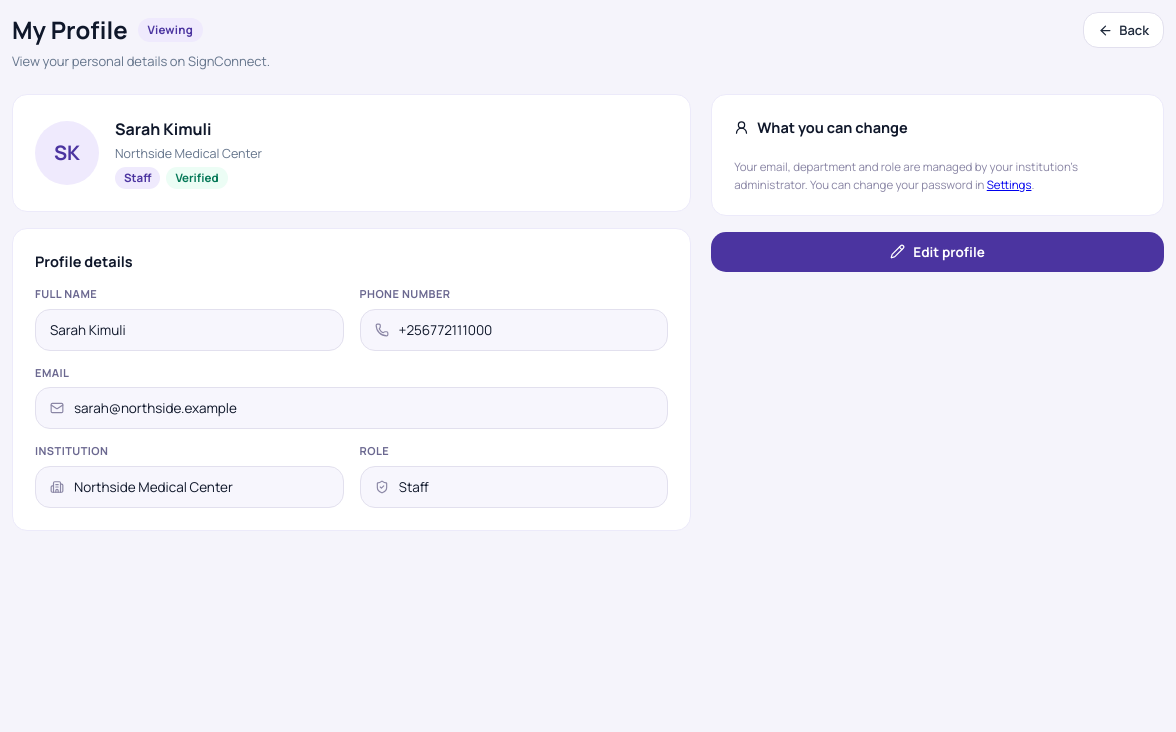
Test: MyProfilePage › saves a new name and updates the name in the sidebar
The image size is (1176, 732).
Click the button "Edit profile".
click(938, 252)  # box x1=711 y1=232 x2=1164 y2=272
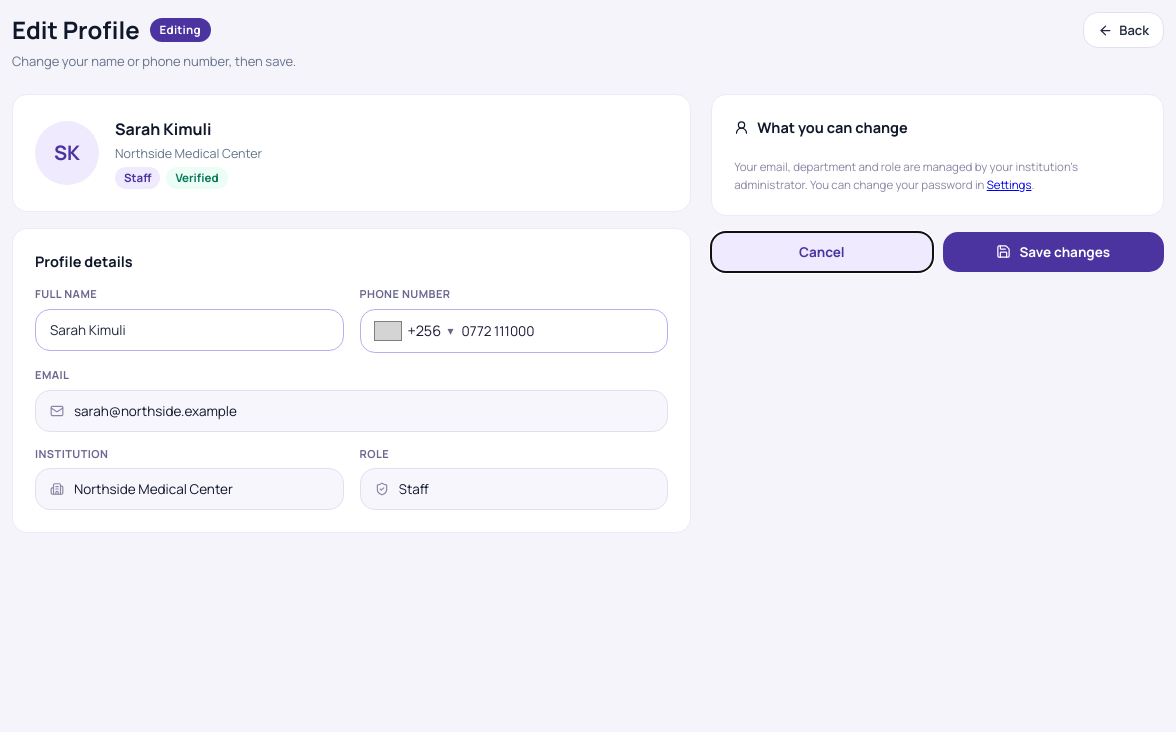
Replace the text in the field labelled "Full name" with "Sarah Kimuli Okello" at (189, 330), box x1=35 y1=309 x2=344 y2=351
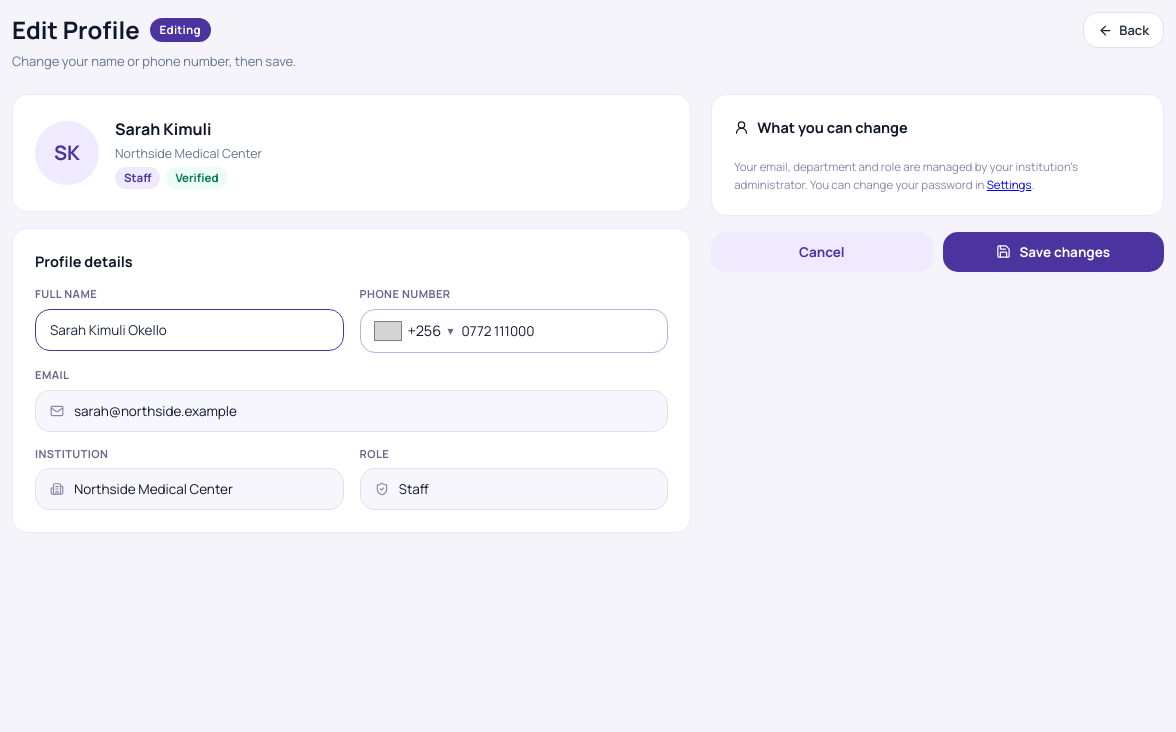
Click the button "Save changes".
click(1053, 252)  # box x1=943 y1=232 x2=1164 y2=272
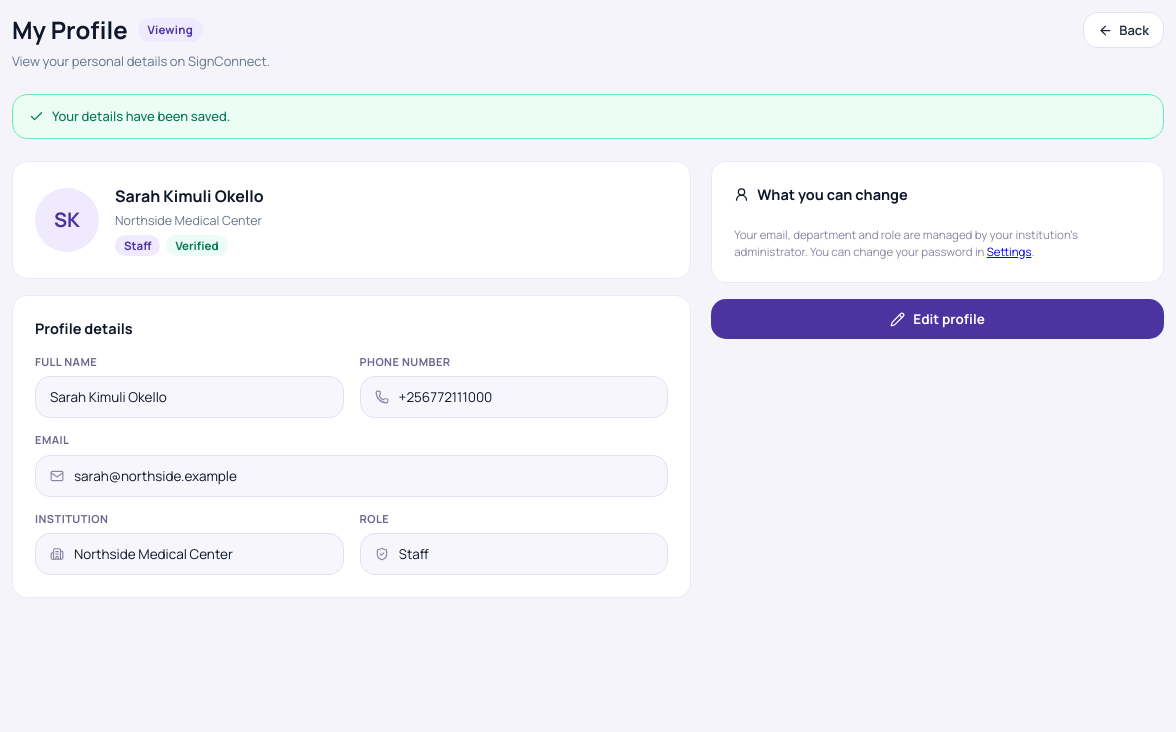
Now the message reads "Your details have been saved.", box x1=52 y1=106 x2=230 y2=124
